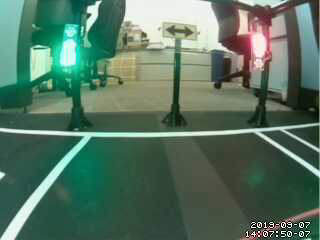Left_Right_sign: (160, 23, 198, 41)
Traffic_light_green: (63, 25, 75, 66)
Traffic_light_red: (253, 29, 271, 78)
